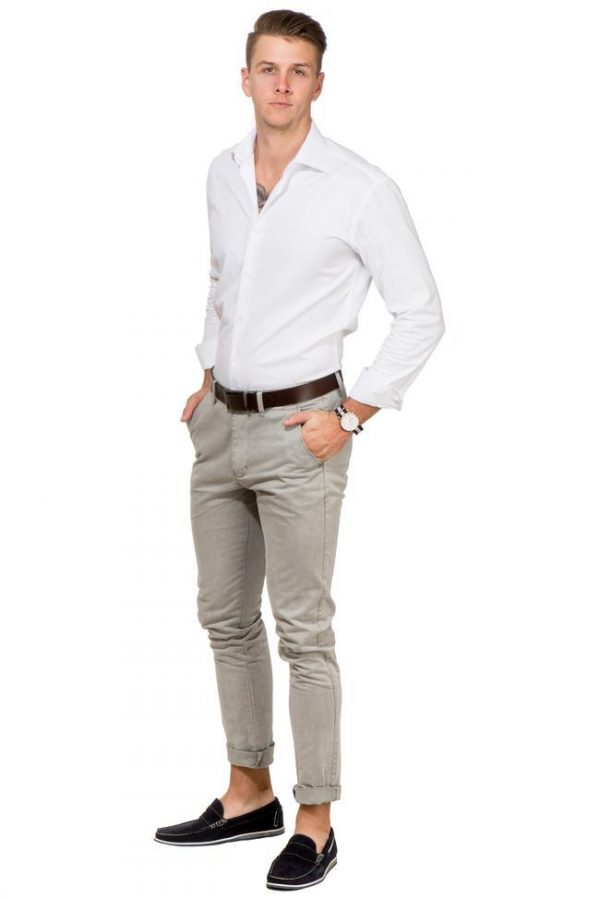F_belt: (191, 376, 352, 410)
F_shirt: (184, 123, 444, 415)
